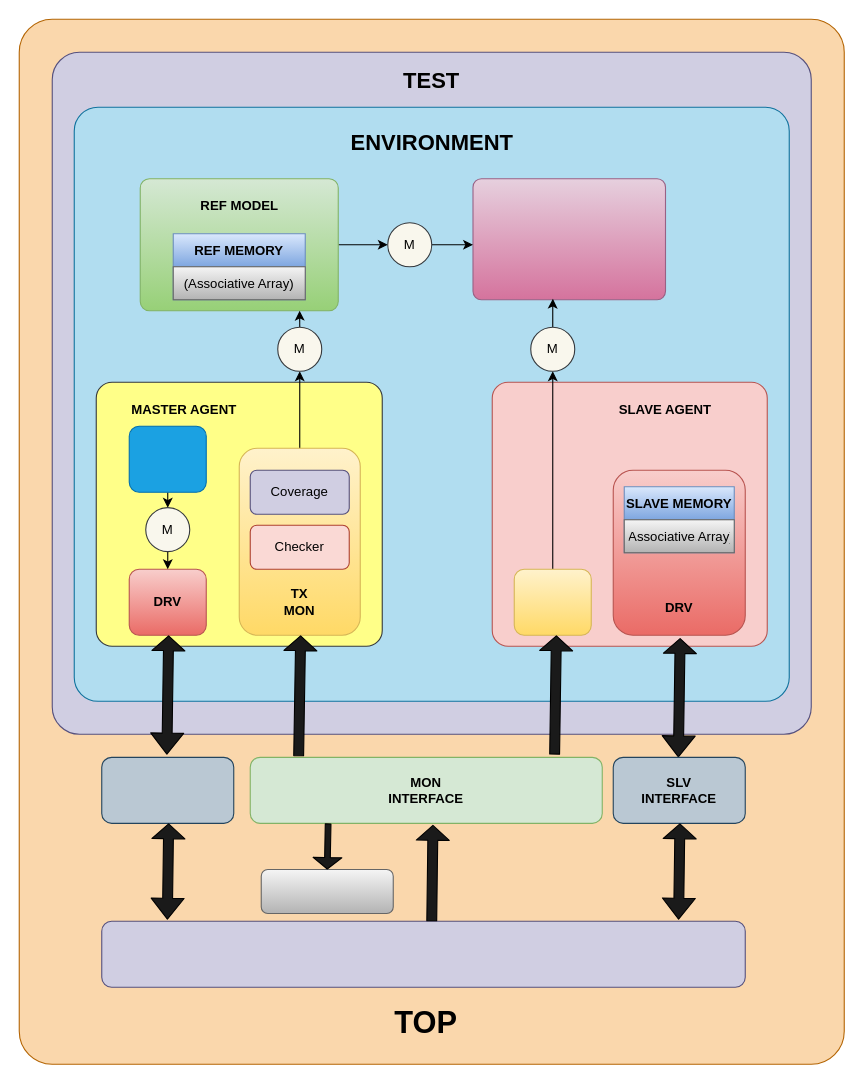
This 864x1084 diagram has some shape labels left out. The centre of each missing label's shape, as x and y in pixels:
"ASSERTION MODULE" goes at point (326, 891).
"GEN" goes at point (167, 458).
"INTERCONNECT" goes at point (423, 953).
"MST INTERFACE" goes at point (167, 789).
"RX MON" goes at point (552, 601).
"SCOREBOARD" goes at point (569, 239).
